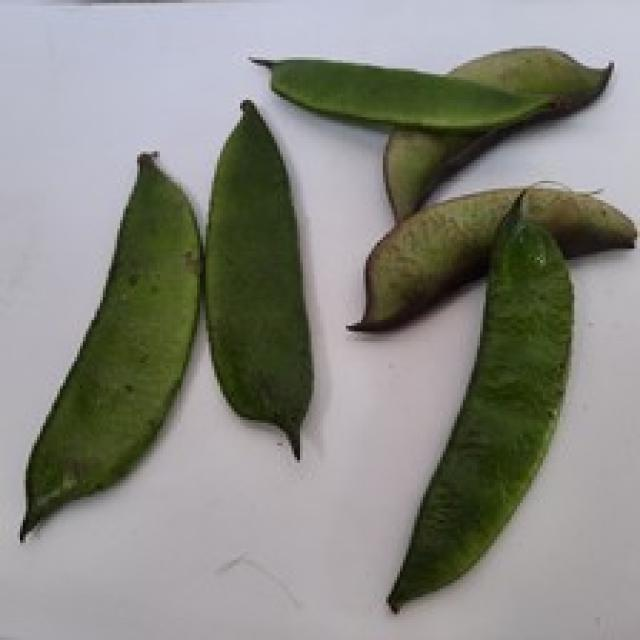Bean: (383, 183, 574, 611), (17, 149, 203, 540), (346, 180, 637, 331), (380, 43, 611, 223), (203, 97, 314, 460)
